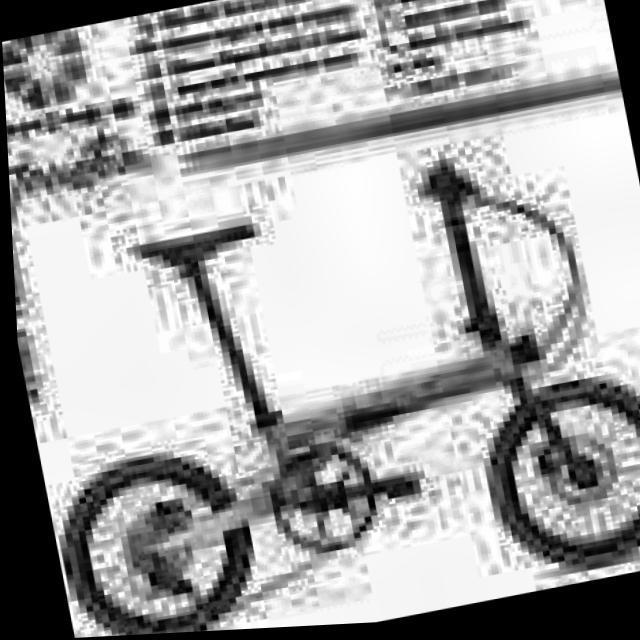motorcycle: (6, 123, 640, 640)
